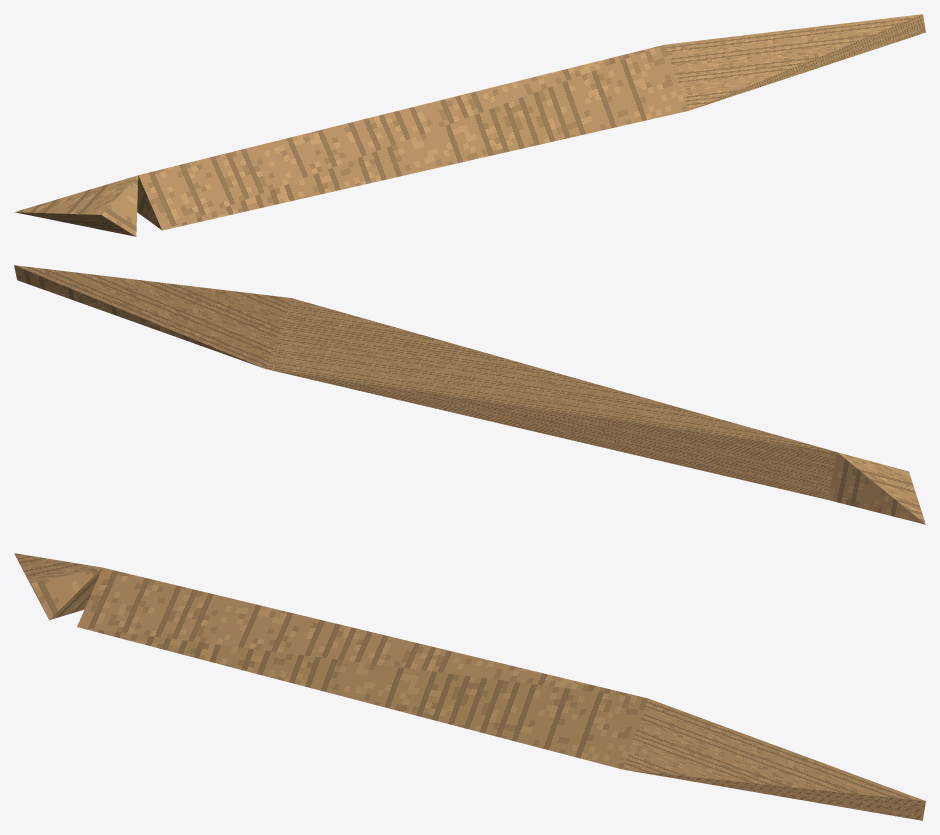
File: splinter.glb
The picture shows the model from 3 angles, top to bottom: view 1: azimuth 30°, elevation 25°; view 2: azimuth 150°, elevation 25°; view 3: azimuth 330°, elevation 25°; orthographic projection. The views are drawn at different scales.
Visible parts, largest first — view 1: block_sliver, block_jag; view 2: block_sliver, block_jag; view 3: block_sliver, block_jag.
Boxes of the visible parts, bbox=[...] form: block_sliver: bbox=[137, 14, 925, 230]; block_jag: bbox=[14, 175, 138, 236]; block_sliver: bbox=[14, 265, 837, 499]; block_jag: bbox=[828, 452, 925, 524]; block_sliver: bbox=[77, 567, 925, 820]; block_jag: bbox=[14, 553, 102, 620].
Bounding box in the file's own units: 0.34 × 0.018 × 0.036.
1 material, 1 textured.
